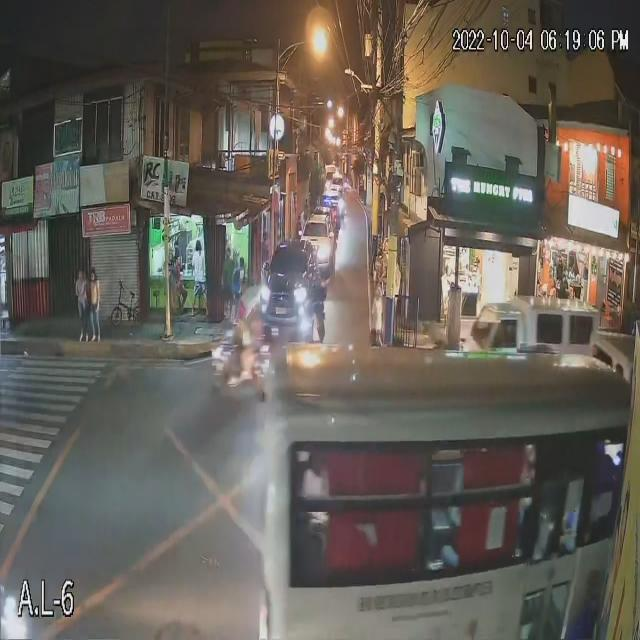motorcycle: (210, 345, 274, 394)
